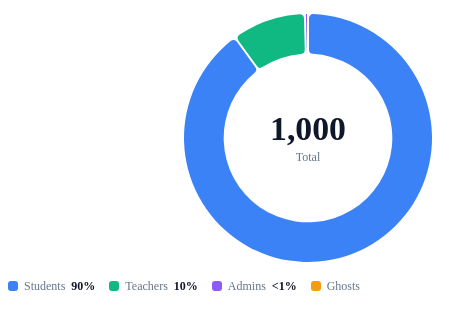
it: DonutChart › recomputes shares when a slice is hidden from the legend
This screenshot has width=449, height=313.
Click the button "Students 90%". click: (52, 286)
box: [4, 276, 99, 297]
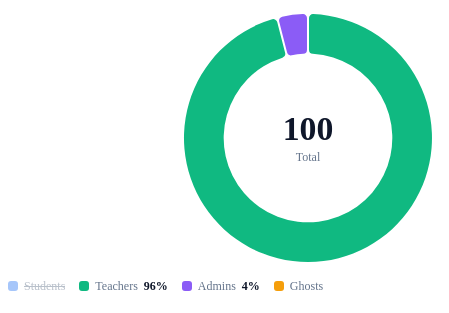
Expected: the text with class "jc-center-value" reads "100", [283, 110, 333, 147]
Expected: the button "Teachers 96%" is shown, [75, 276, 172, 297]
